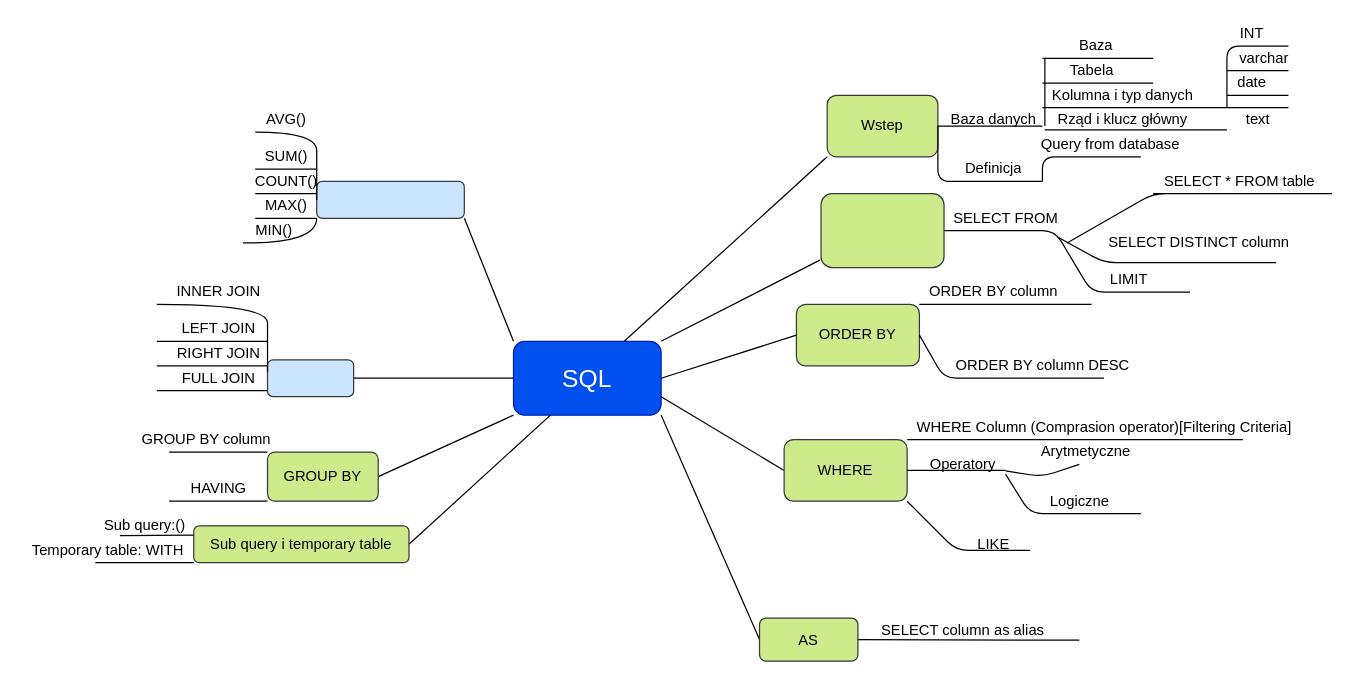
The diagram is 1360 pixels wide and 683 high, and some of its shapes have lost their labels. The box of each missing label's shape, as (x1, y1, x2, y2) in pixels:
Basic query: (820, 192, 944, 268)
JOIN: (266, 359, 354, 397)
Kalkulacje: (315, 180, 464, 218)
